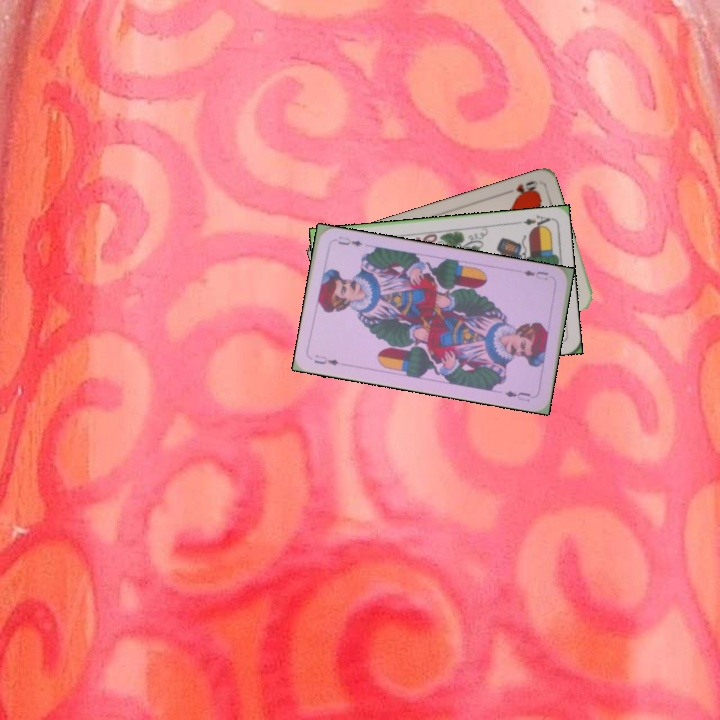EA: (513, 211, 553, 231)
EU: (519, 266, 551, 283), (310, 351, 342, 368)
HO: (511, 176, 540, 200)
